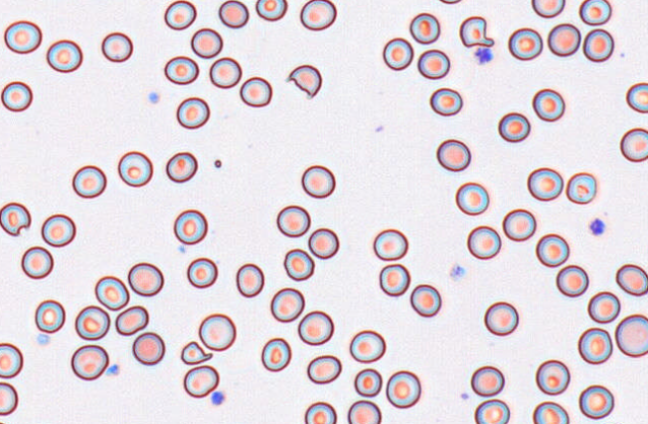PLT: (473, 45, 495, 65), (588, 216, 607, 237), (36, 332, 53, 347), (211, 391, 227, 406), (147, 91, 162, 105), (106, 363, 120, 378)
RBC: (614, 313, 648, 357), (198, 313, 236, 351), (70, 344, 109, 380), (385, 370, 421, 408), (117, 150, 153, 187), (577, 327, 612, 364), (4, 20, 42, 54), (74, 305, 110, 340), (297, 310, 333, 345), (535, 359, 570, 395), (578, 384, 614, 419), (526, 167, 563, 201), (94, 275, 129, 310), (483, 301, 518, 336), (127, 262, 163, 296), (349, 329, 385, 363), (270, 287, 304, 322), (41, 213, 76, 247), (466, 225, 501, 259), (173, 209, 207, 244), (71, 164, 106, 198), (183, 365, 219, 398), (46, 39, 82, 72), (535, 233, 569, 267), (455, 181, 489, 215), (301, 164, 335, 198), (132, 331, 165, 365), (547, 23, 581, 56), (276, 204, 310, 237), (436, 138, 470, 171), (502, 208, 536, 241), (508, 27, 542, 60), (373, 228, 408, 260), (299, 0, 336, 30), (176, 96, 209, 129), (555, 264, 588, 297), (532, 88, 565, 121), (409, 283, 441, 317), (582, 28, 614, 62), (587, 291, 620, 323), (21, 246, 53, 279), (615, 263, 647, 296), (34, 299, 65, 333), (470, 365, 504, 396), (261, 337, 291, 372), (306, 354, 341, 384), (209, 56, 241, 88), (379, 263, 410, 296), (283, 248, 314, 281), (239, 76, 272, 107), (382, 37, 413, 70), (497, 111, 530, 142), (164, 55, 199, 84), (190, 27, 222, 58), (308, 227, 339, 259), (165, 151, 197, 182), (565, 172, 596, 204), (409, 12, 440, 44), (0, 81, 32, 112), (101, 31, 133, 62), (115, 305, 148, 335), (417, 49, 450, 79), (235, 263, 264, 297), (619, 127, 647, 162), (186, 257, 217, 288), (164, 0, 196, 30), (429, 87, 462, 116), (218, 0, 249, 28), (353, 368, 382, 397), (474, 399, 509, 423), (0, 342, 23, 378), (578, 0, 611, 25), (347, 399, 381, 423), (532, 401, 569, 423), (304, 401, 336, 423), (255, 0, 287, 21), (626, 82, 647, 113), (0, 381, 18, 416), (531, 0, 565, 18), (438, 0, 462, 4)
Schistocyte: (288, 64, 325, 99), (457, 15, 495, 49), (0, 202, 33, 237), (180, 340, 215, 365)
